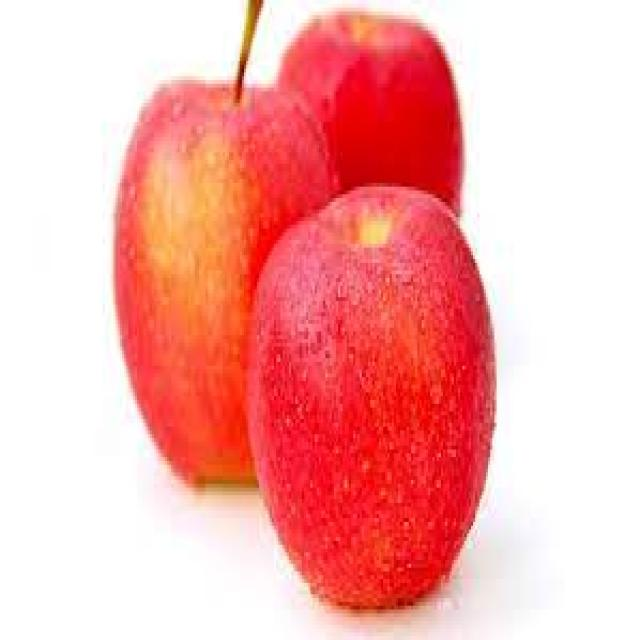non_orange: (223, 120, 519, 640), (95, 35, 336, 576), (212, 0, 533, 370)
